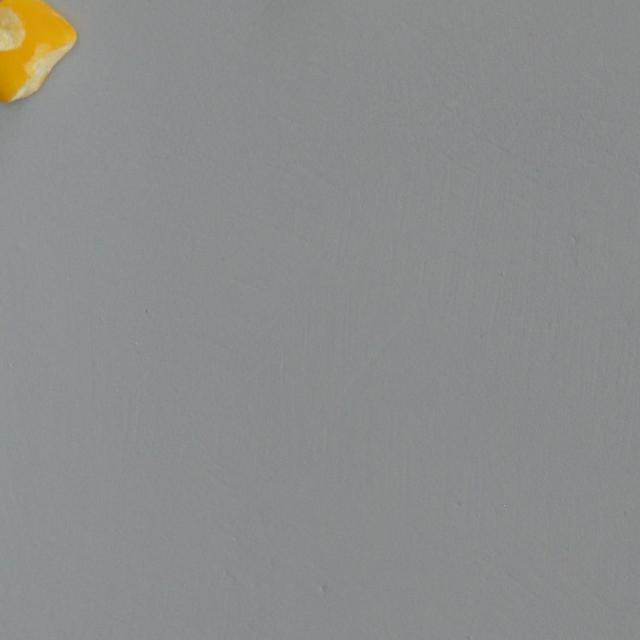punto_negro: (0, 0, 80, 108)
